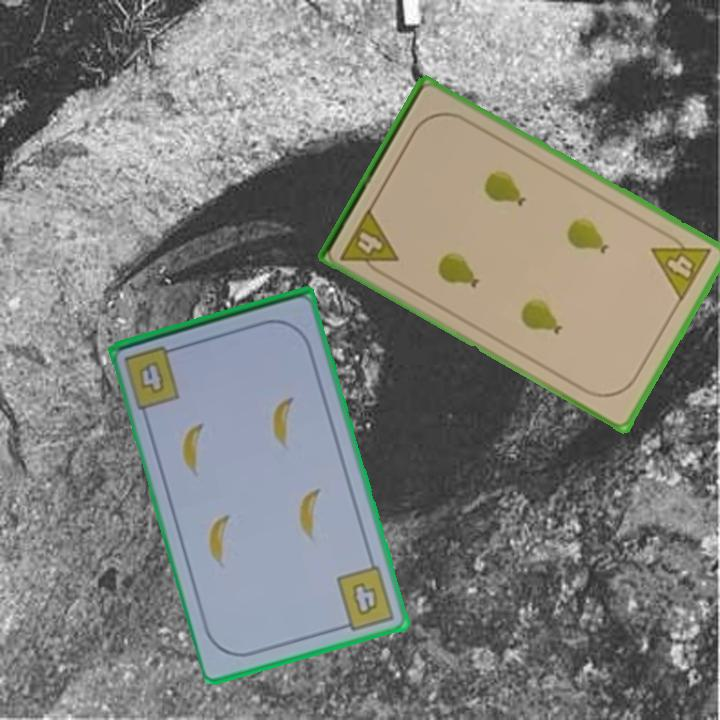4b: (333, 562, 398, 634), (120, 342, 184, 412)
4p: (647, 226, 715, 305), (337, 204, 402, 280)
